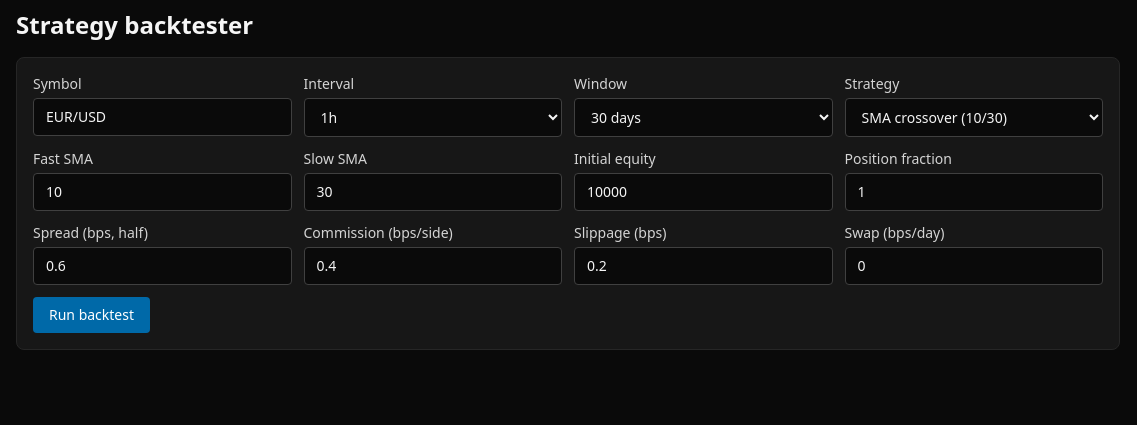
Test case: BacktestPage › refuses to run when the window has too few candles
The image size is (1137, 425).
Click the button "Run backtest".
click(92, 315)  # box [33,297,150,333]
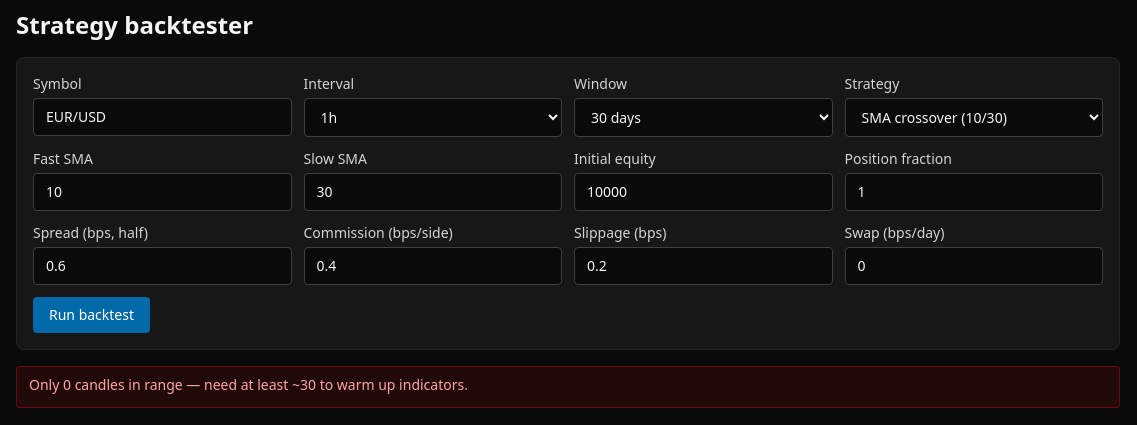
Expected: the text "need at least ~30" is shown, [29,375,468,394]
